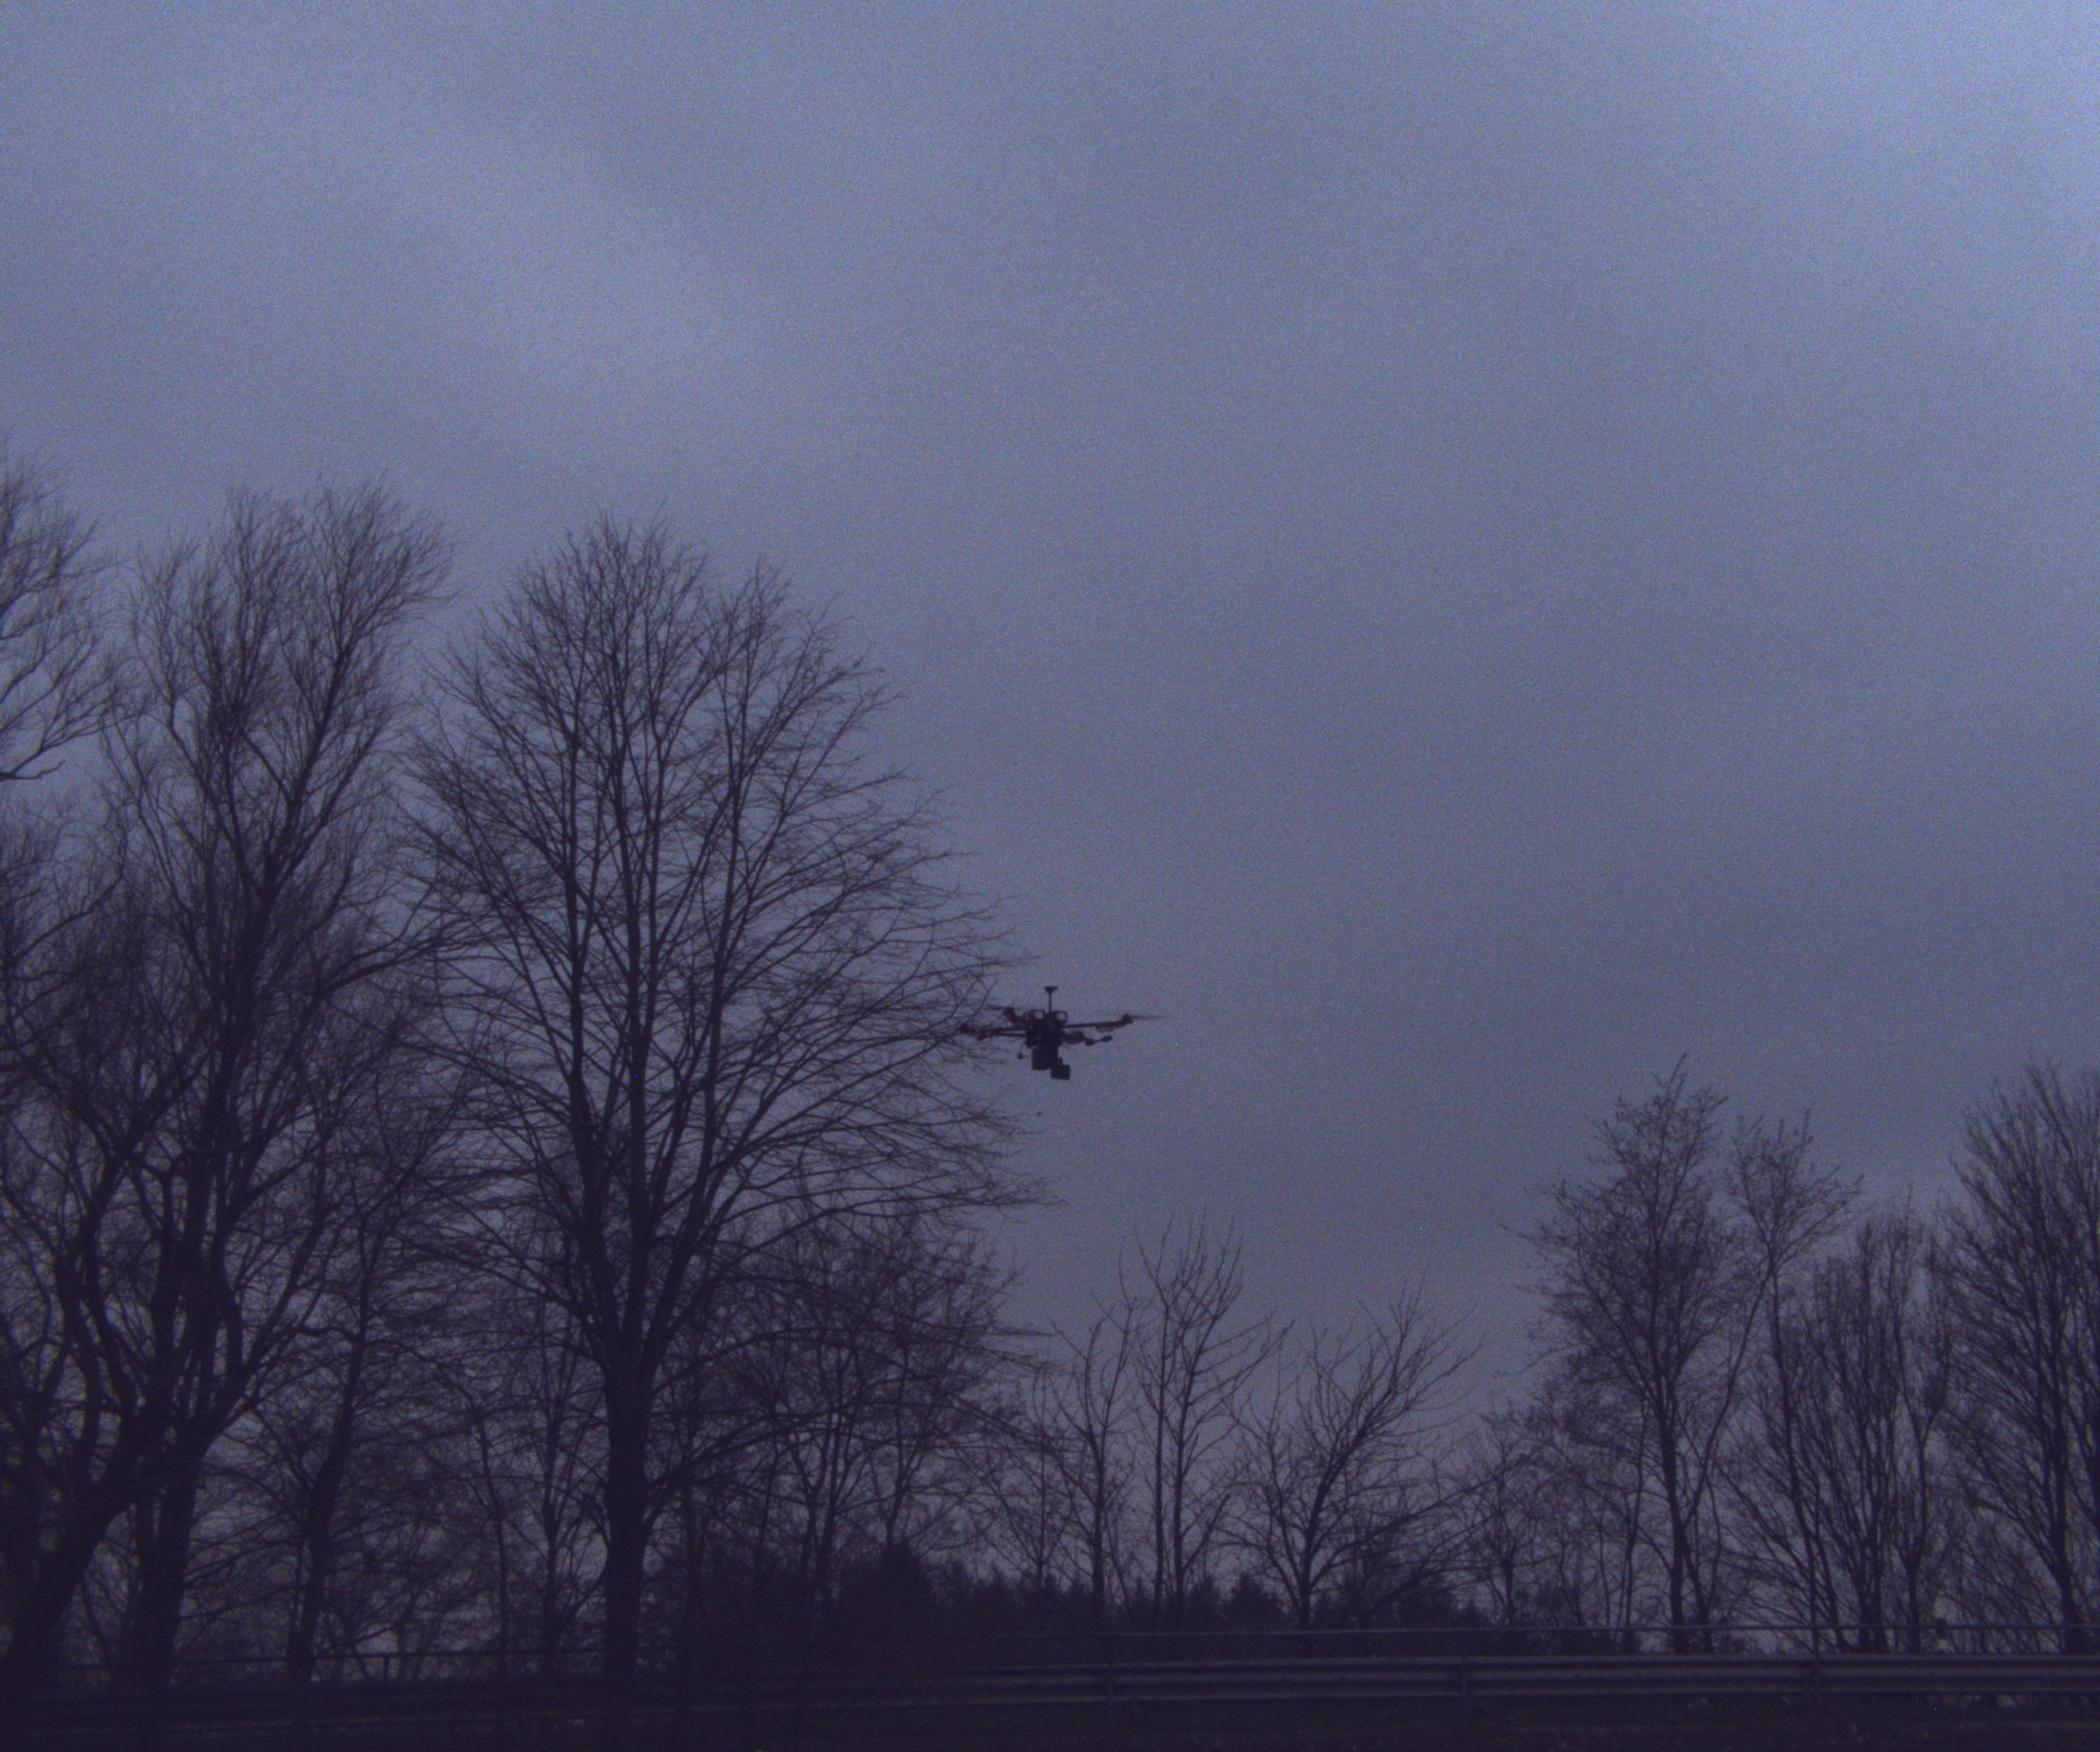Drohne: (891, 957, 1320, 1112)
